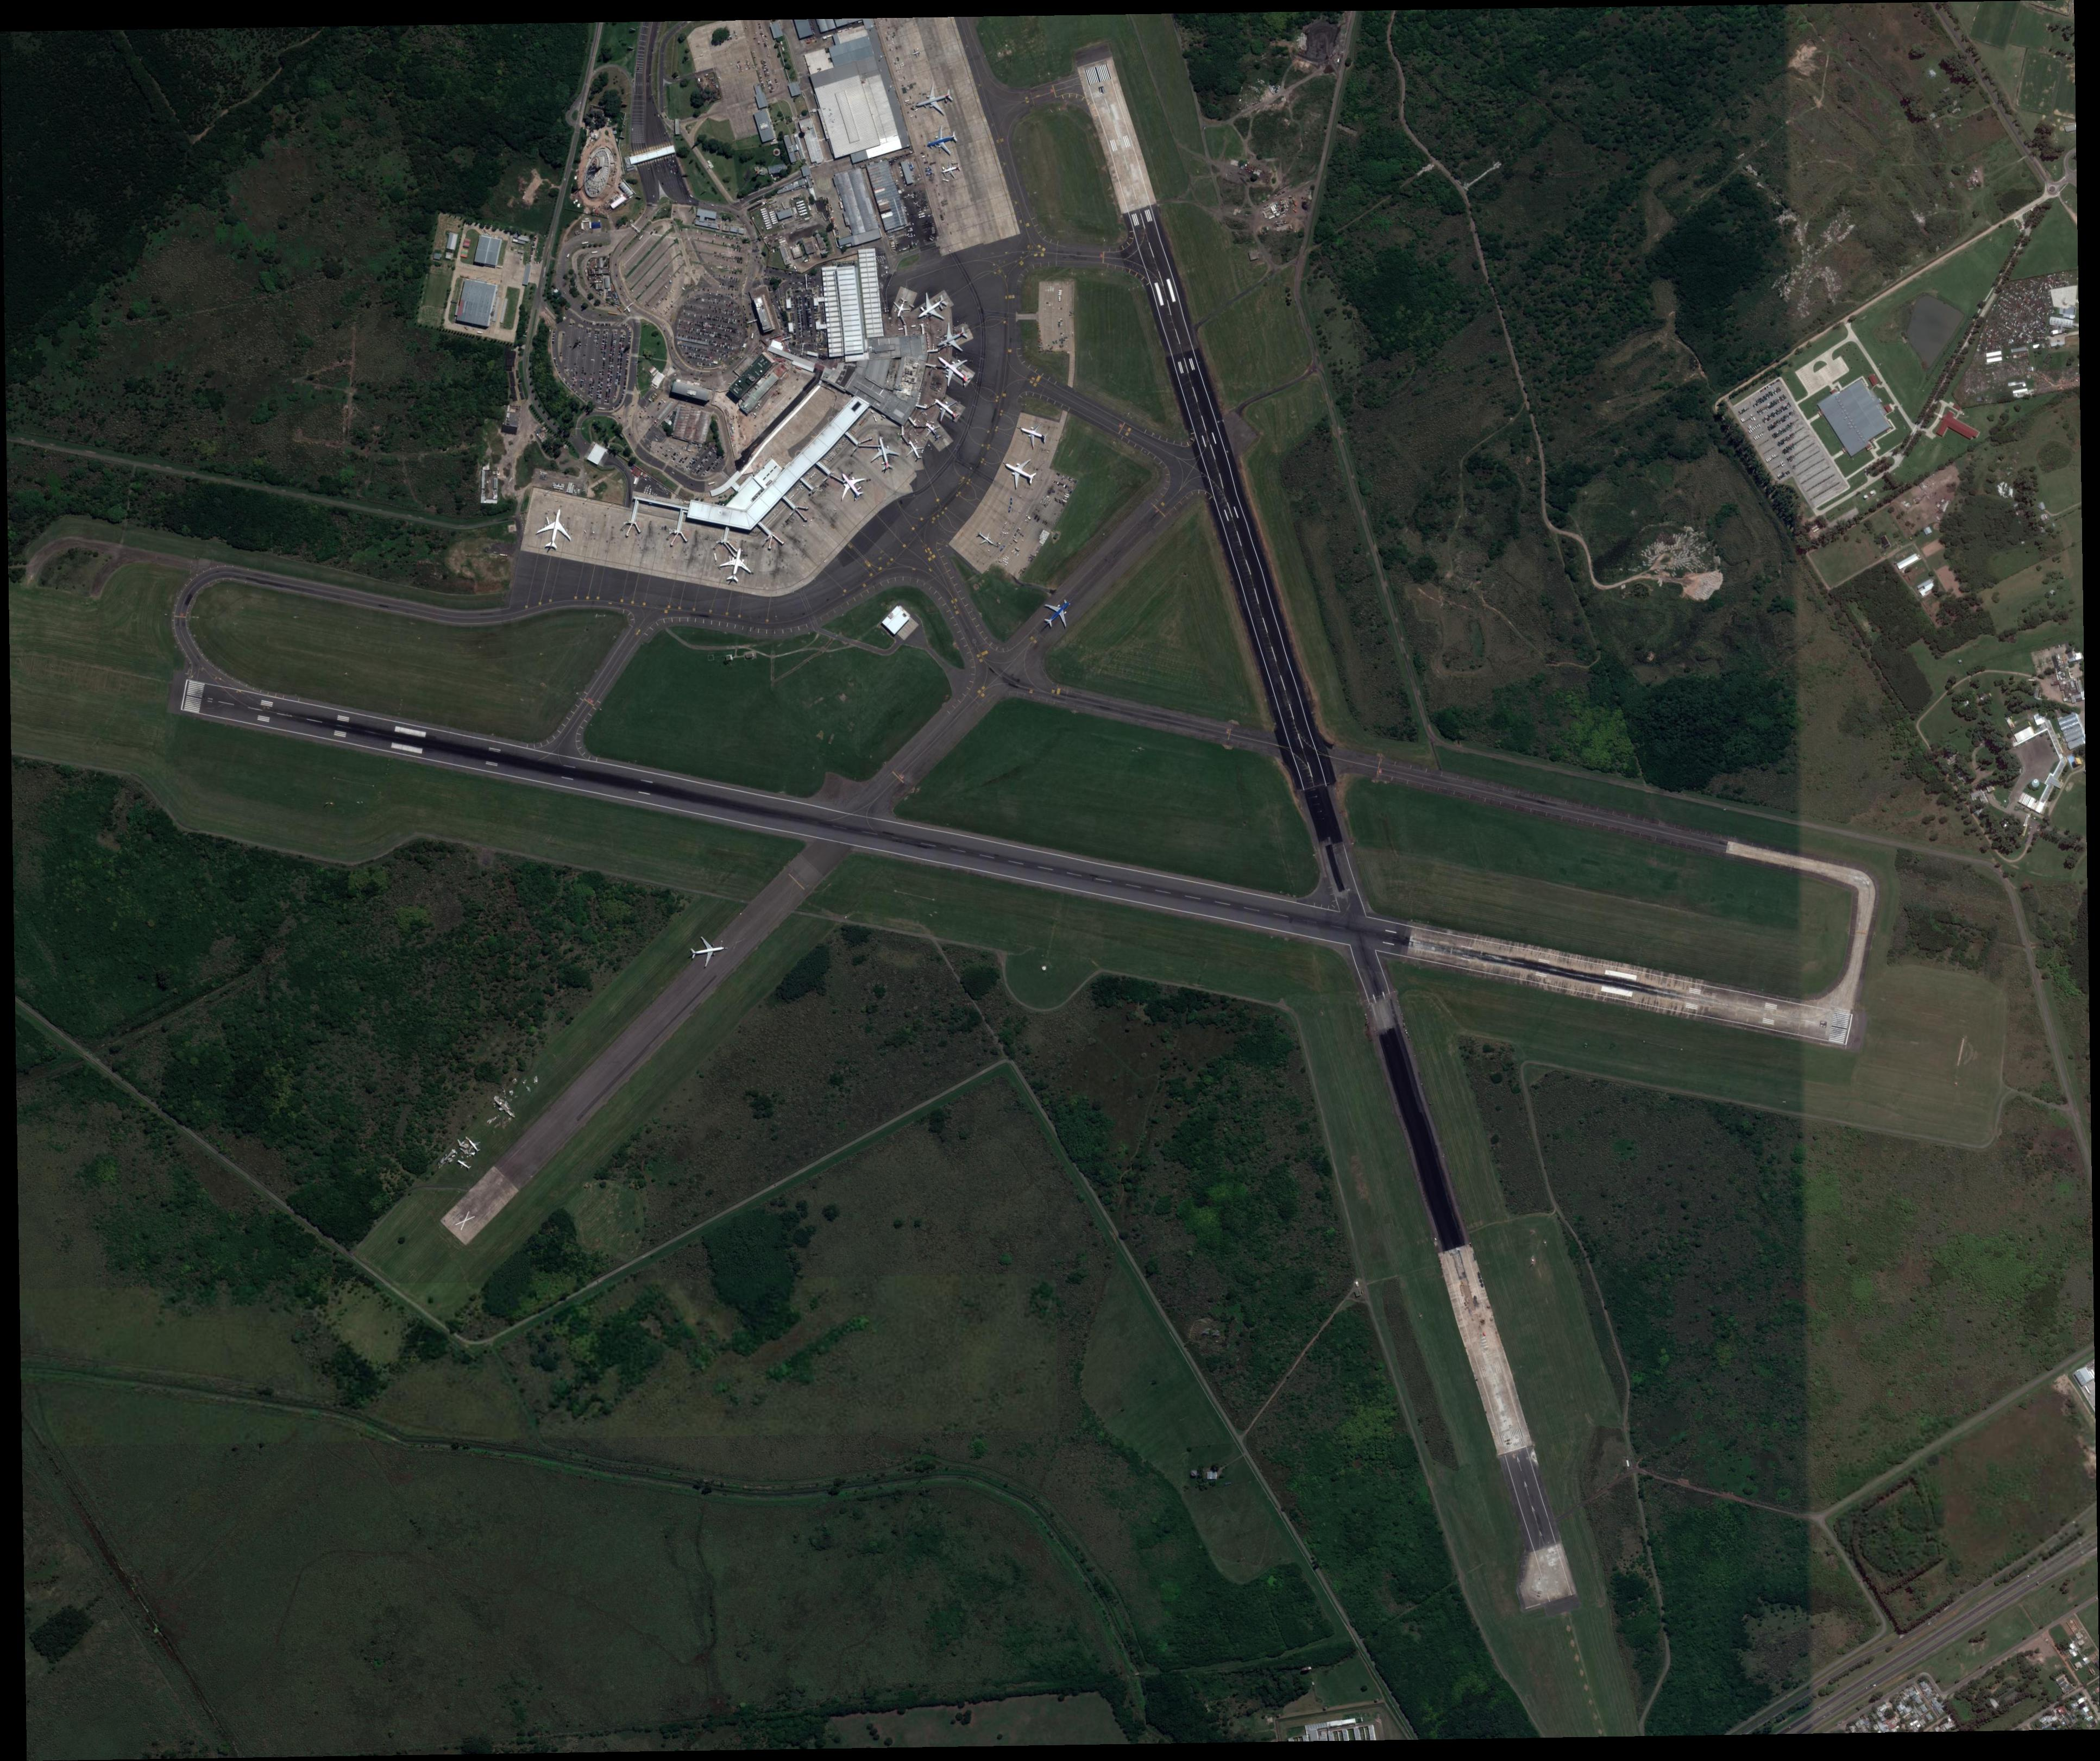plane: (996, 451, 1043, 496), (929, 349, 977, 393), (907, 285, 954, 328), (535, 507, 578, 552), (910, 80, 957, 122), (830, 465, 872, 508), (1036, 594, 1078, 634), (931, 320, 975, 358), (716, 547, 755, 585), (688, 935, 729, 971), (924, 121, 961, 159), (1013, 418, 1052, 454), (929, 391, 964, 426), (868, 437, 900, 475), (888, 295, 915, 323), (903, 439, 926, 465), (973, 528, 998, 550), (938, 161, 963, 182), (924, 421, 943, 444), (908, 47, 922, 61)
